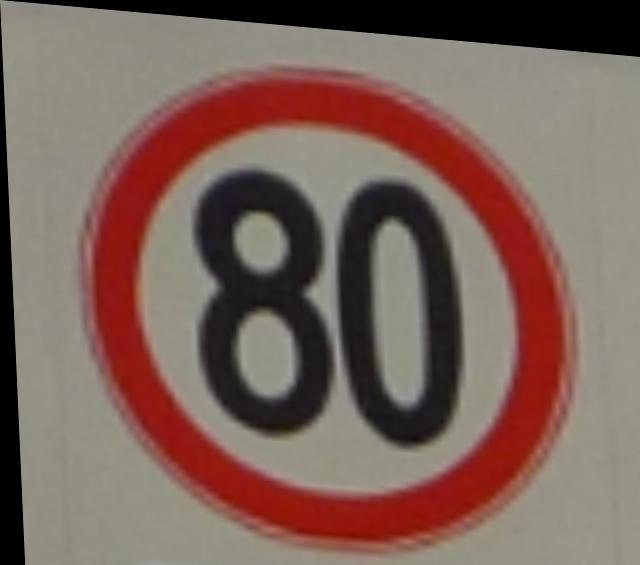limit80: (54, 33, 596, 565)
